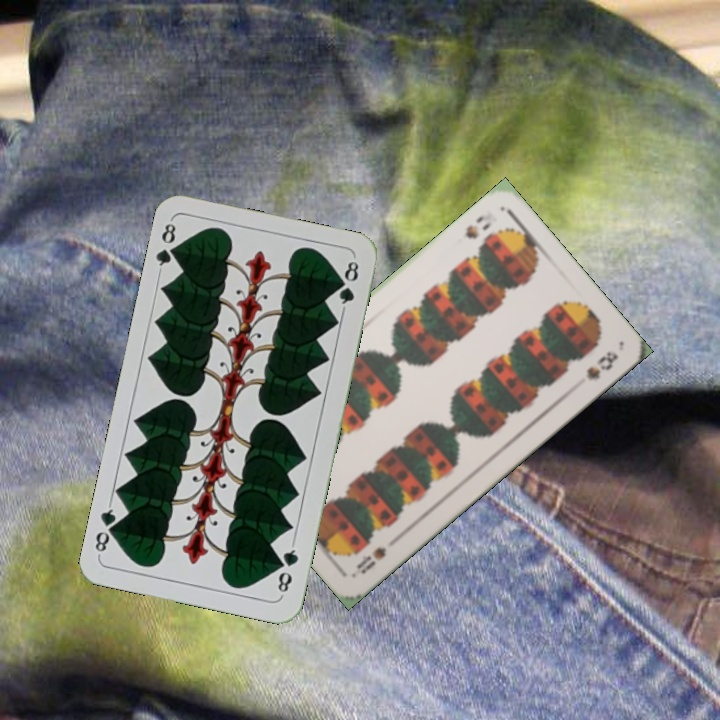G8: (152, 216, 183, 275), (273, 540, 301, 598)
S8: (352, 543, 389, 577), (461, 211, 494, 242)
